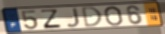5: (20, 10, 40, 30)
6: (125, 5, 144, 26)
D: (81, 6, 104, 29)
J: (65, 7, 81, 28)
O: (103, 5, 124, 27)
Z: (40, 9, 63, 30)
